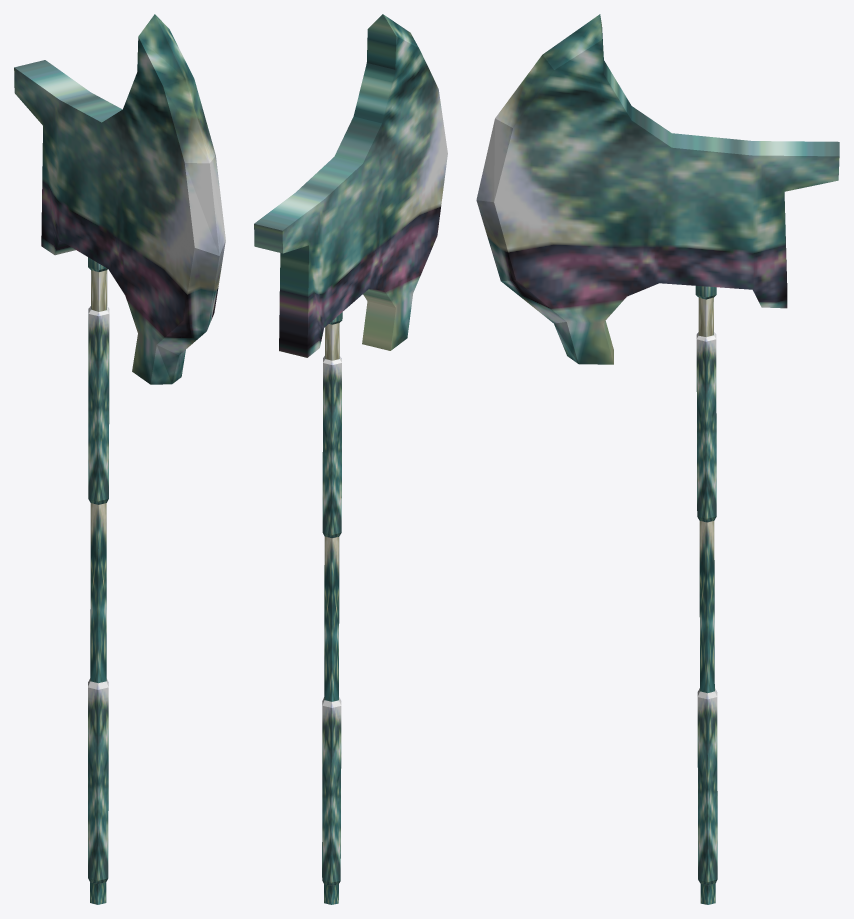
The model's file is heavyaxeman00_4.obj.
3 views of the same model, side by side, from view 1: azimuth 30°, elevation 25°; view 2: azimuth 150°, elevation 25°; view 3: azimuth 270°, elevation 25° (orthographic). The views are drawn at different scales.
Parts seen in each view (by area): view 1: heavyaxeman00_4; view 2: heavyaxeman00_4; view 3: heavyaxeman00_4.
Boxes of the visible parts, x1,y1,x2,y2 form: heavyaxeman00_4: (14,14,225,904); heavyaxeman00_4: (254,14,447,904); heavyaxeman00_4: (476,14,839,904).
Size of the model in its own units: 0.09 by 2.56 by 0.95.
